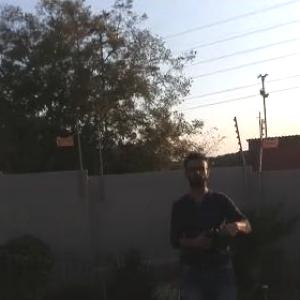follow: (165, 149, 257, 299)
